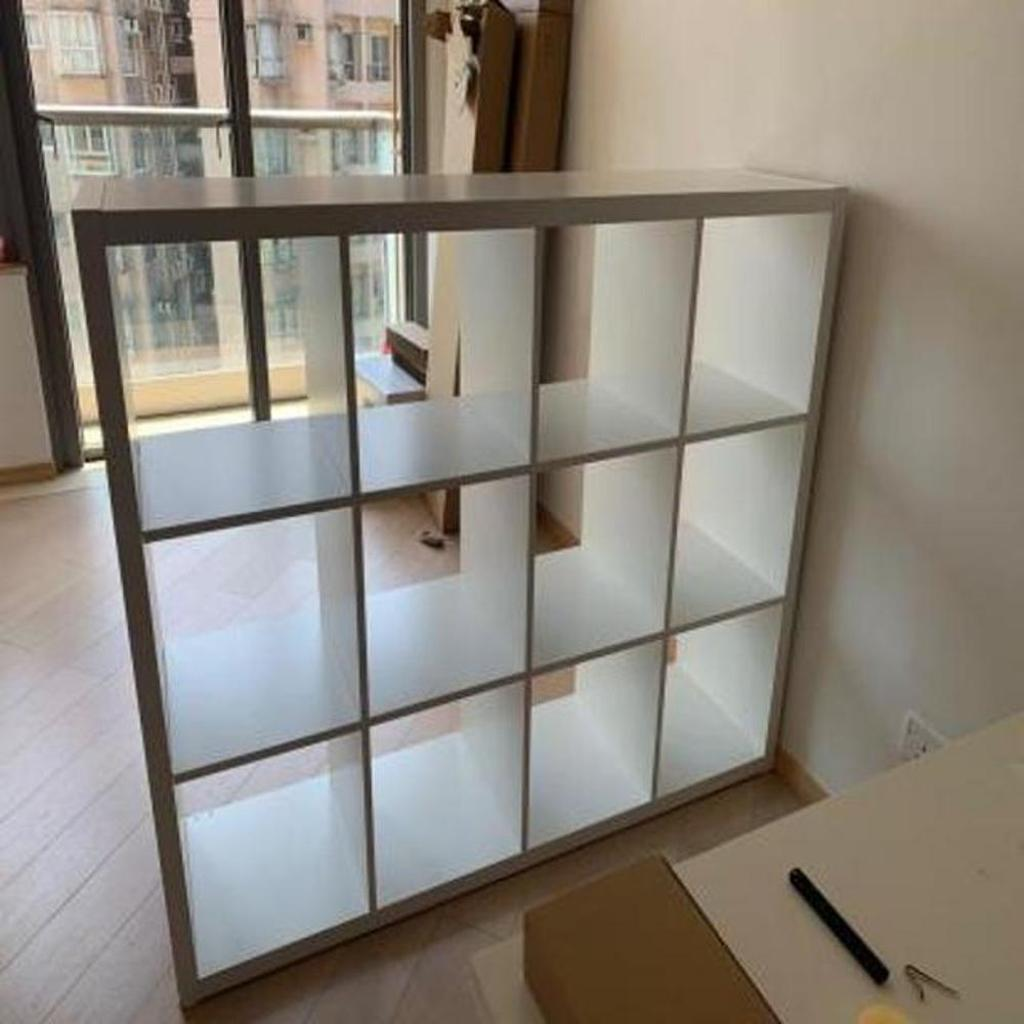lamp: (66, 166, 852, 1010)
